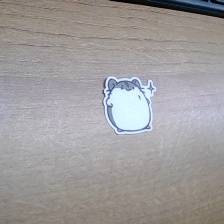mouse: (102, 75, 159, 136)
